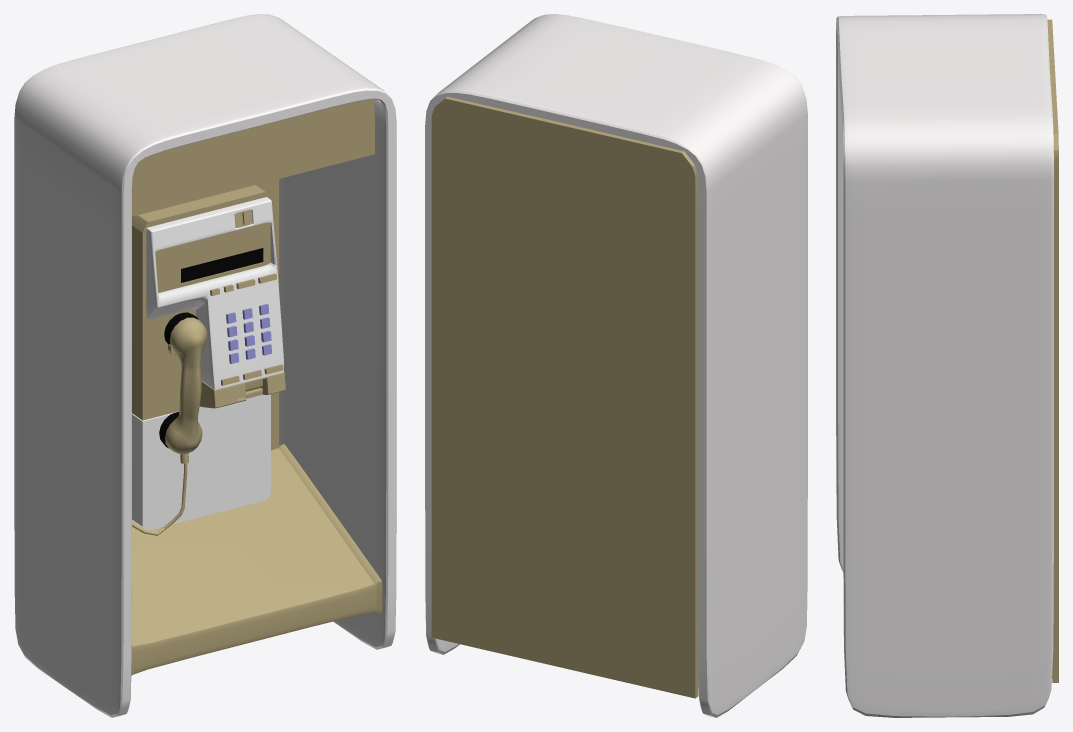
File: Call box N071211.fbx
3 views of the same model, side by side, from view 1: azimuth 30°, elevation 25°; view 2: azimuth 150°, elevation 25°; view 3: azimuth 270°, elevation 25° (orthographic).
Visible parts, largest first — view 1: polyToSub1, polyToSub2, pCube1, polyToSubd, polyToSub6, polyToSub3, polySurfa0, polyToSub4, polyToSub5, polySurfa1; view 2: pCube1, polyToSub1; view 3: polyToSub1, pCube1.
Part boxes in pixels (x1,y1,x2,y2): polyToSub1: [14, 14, 396, 717]; polyToSub2: [131, 444, 382, 675]; pCube1: [132, 99, 374, 450]; polyToSubd: [132, 394, 270, 530]; polyToSub6: [146, 197, 283, 389]; polyToSub3: [132, 185, 270, 420]; polySurfa0: [155, 222, 270, 292]; polyToSub4: [165, 317, 207, 454]; polyToSub5: [199, 372, 285, 408]; polySurfa1: [181, 248, 262, 282]; pCube1: [431, 96, 698, 698]; polyToSub1: [425, 14, 807, 717]; polyToSub1: [836, 14, 1053, 717]; pCube1: [1047, 19, 1058, 682].
Size of the model in its own units: 1689 by 3297 by 1145.
